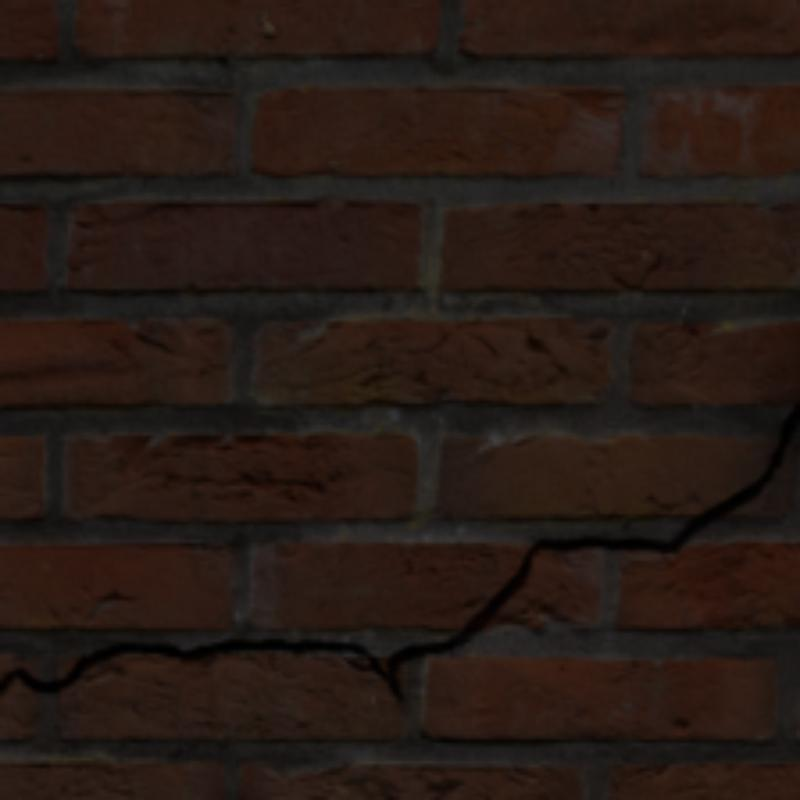pothole: (0, 414, 796, 700)
